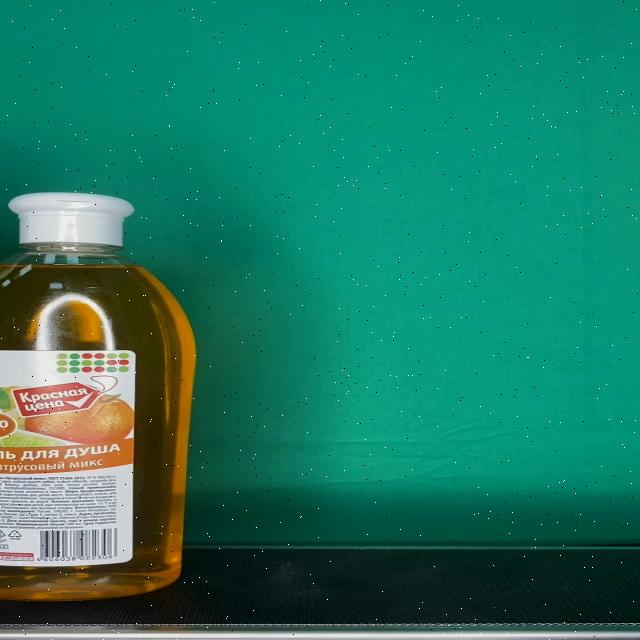Bottle: (0, 192, 196, 603)
Cap: (7, 193, 132, 245)
